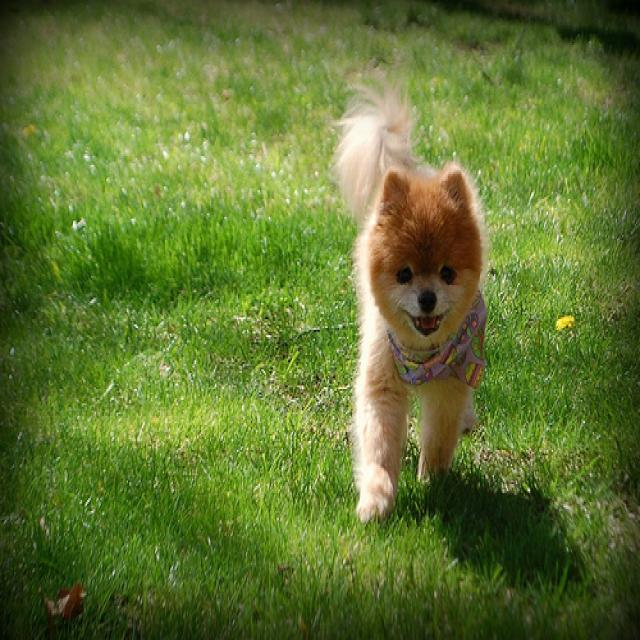dog: (368, 167, 478, 344)
